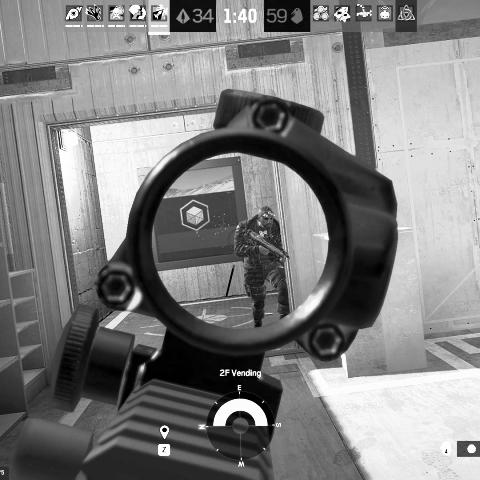Character: (233, 205, 293, 328)
Head: (258, 205, 274, 229)
